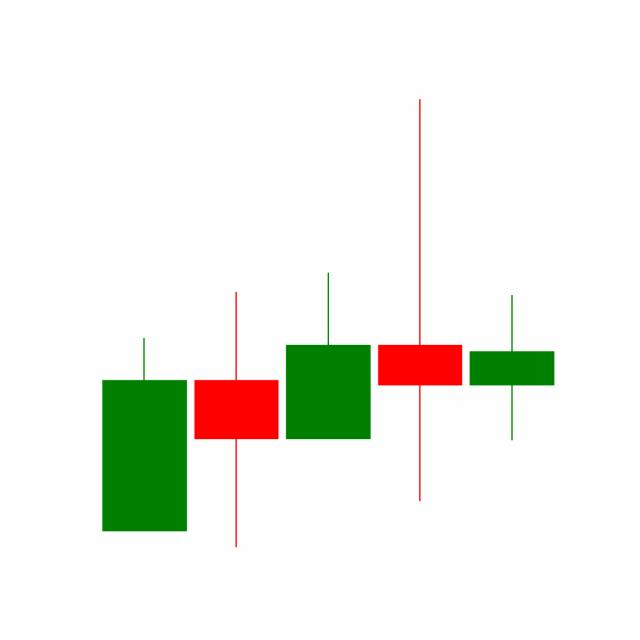Spinning Top: (464, 293, 558, 442)
